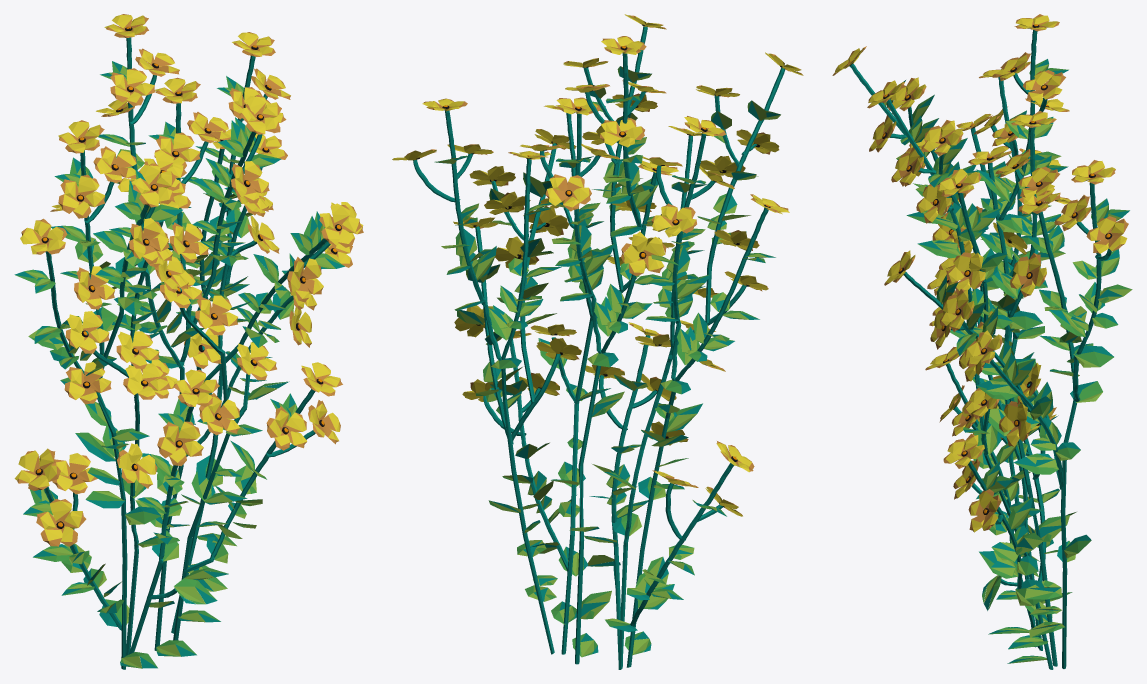
The model's file is modelDraco.gltf.
3 renders of one model, left to right at view 1: azimuth 30°, elevation 25°; view 2: azimuth 150°, elevation 25°; view 3: azimuth 270°, elevation 25°, orthographic. The views are drawn at different scales.
Parts seen in each view (by area): view 1: node_MeshObject1567534080-PolyPaper11, node_MeshObject-148703232-PolyPaper19, node_MeshObject-1592023040-PolyPaper19, node_MeshObject-720782336-PolyPaper12, node_MeshObject423375872-PolyPaper12, node_MeshObject2139613184-PolyPaper13, node_MeshObject-1583275008-PolyPaper12; view 2: node_MeshObject-1592023040-PolyPaper19, node_MeshObject1567534080-PolyPaper11, node_MeshObject2139613184-PolyPaper13, node_MeshObject-148703232-PolyPaper19, node_MeshObject423375872-PolyPaper12, node_MeshObject-720782336-PolyPaper12, node_MeshObject-1583275008-PolyPaper12; view 3: node_MeshObject2139613184-PolyPaper13, node_MeshObject-720782336-PolyPaper12, node_MeshObject-1592023040-PolyPaper19, node_MeshObject423375872-PolyPaper12, node_MeshObject1567534080-PolyPaper11, node_MeshObject-148703232-PolyPaper19, node_MeshObject-1583275008-PolyPaper12.
Part boxes in pixels (x1,y1,x2,y2): node_MeshObject1567534080-PolyPaper11: [14, 129, 294, 669]; node_MeshObject-148703232-PolyPaper19: [14, 120, 240, 561]; node_MeshObject-1592023040-PolyPaper19: [64, 48, 342, 640]; node_MeshObject-720782336-PolyPaper12: [34, 57, 340, 668]; node_MeshObject423375872-PolyPaper12: [50, 14, 287, 666]; node_MeshObject2139613184-PolyPaper13: [172, 32, 363, 603]; node_MeshObject-1583275008-PolyPaper12: [171, 269, 315, 633]; node_MeshObject-1592023040-PolyPaper19: [482, 85, 725, 654]; node_MeshObject1567534080-PolyPaper11: [466, 93, 779, 667]; node_MeshObject2139613184-PolyPaper13: [392, 98, 614, 569]; node_MeshObject-148703232-PolyPaper19: [584, 52, 803, 542]; node_MeshObject423375872-PolyPaper12: [530, 36, 759, 669]; node_MeshObject-720782336-PolyPaper12: [462, 14, 779, 652]; node_MeshObject-1583275008-PolyPaper12: [454, 215, 583, 654]; node_MeshObject2139613184-PolyPaper13: [884, 160, 1132, 602]; node_MeshObject-720782336-PolyPaper12: [867, 71, 1065, 634]; node_MeshObject-1592023040-PolyPaper19: [925, 70, 1068, 669]; node_MeshObject423375872-PolyPaper12: [932, 14, 1070, 650]; node_MeshObject1567534080-PolyPaper11: [869, 113, 1079, 666]; node_MeshObject-148703232-PolyPaper19: [832, 46, 1051, 556]; node_MeshObject-1583275008-PolyPaper12: [930, 309, 1091, 668].
Bounding box in the file's own units: 1.56 × 2.87 × 1.24.
